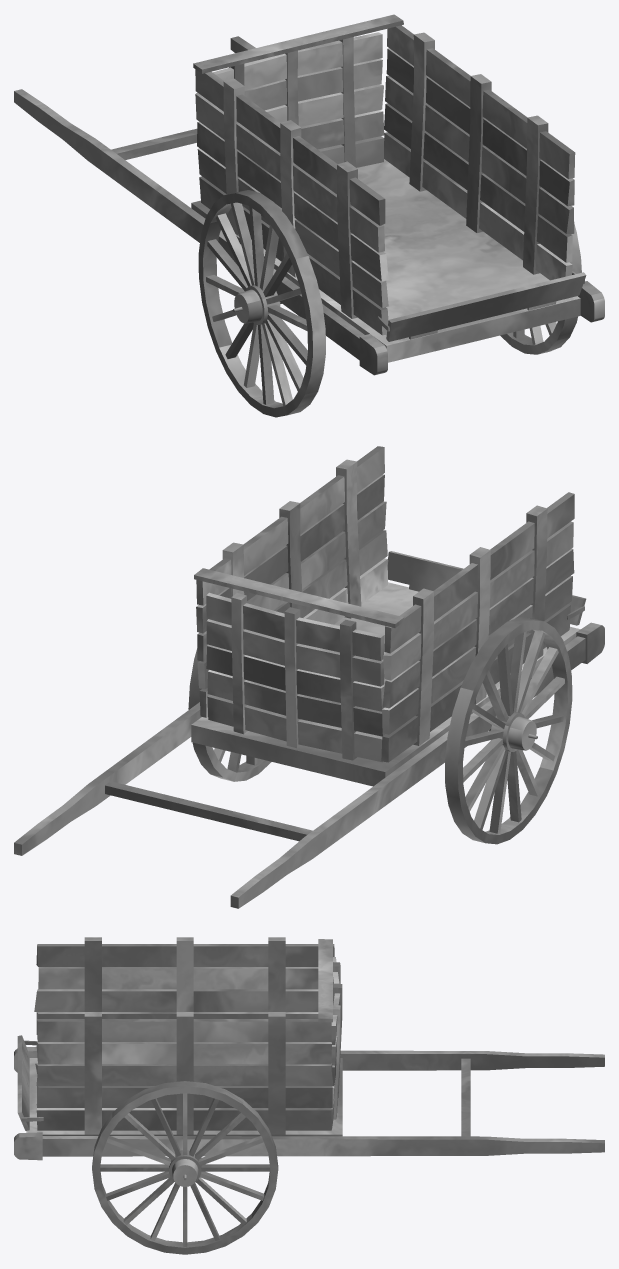
The model's file is SM_cart_02.fbx.
The picture shows the model from 3 angles, top to bottom: view 1: azimuth 30°, elevation 25°; view 2: azimuth 150°, elevation 25°; view 3: azimuth 270°, elevation 25°; orthographic projection. The views are drawn at different scales.
Parts seen in each view (by area): view 1: SM_cart_02; view 2: SM_cart_02; view 3: SM_cart_02.
Part boxes in pixels (bbox=[...]): SM_cart_02: bbox=[14, 14, 604, 417]; SM_cart_02: bbox=[14, 446, 604, 908]; SM_cart_02: bbox=[14, 937, 604, 1254].
Size of the model in its own units: 206 by 416 by 173.
Materials: 1 (1 with a texture image).
